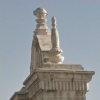Statue: (23, 3, 67, 69)
